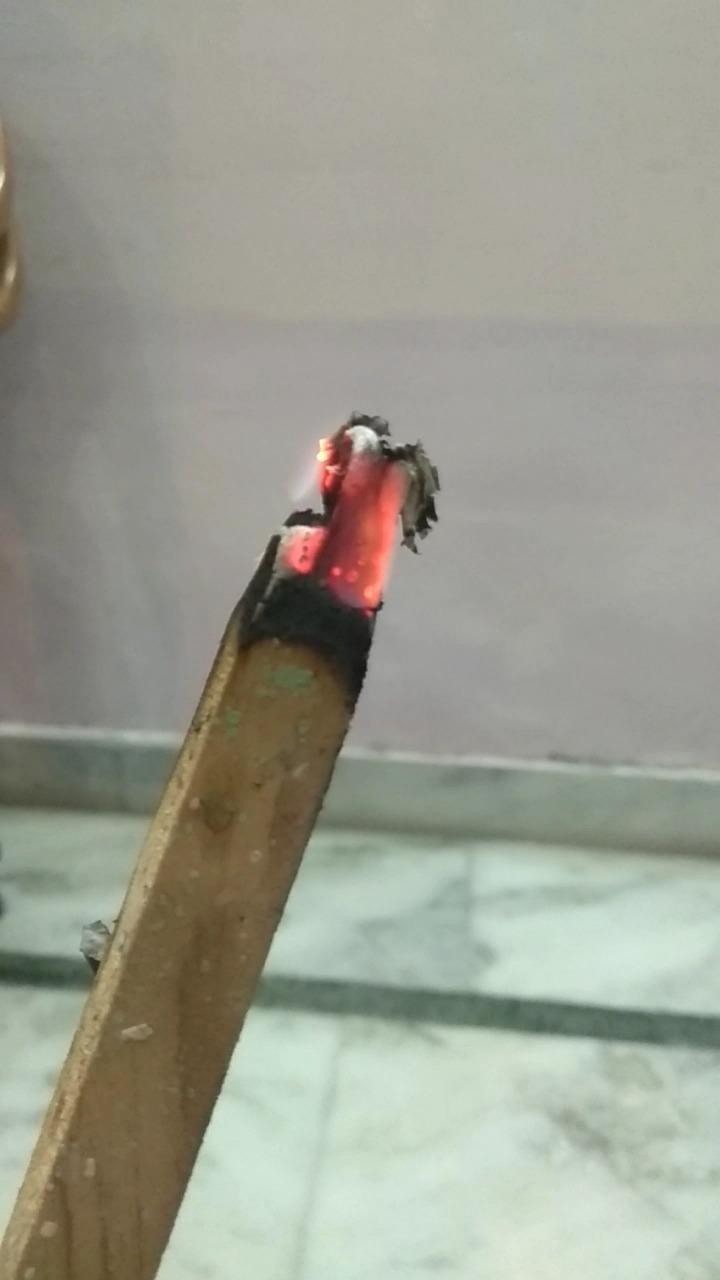fire: (279, 425, 406, 607)
